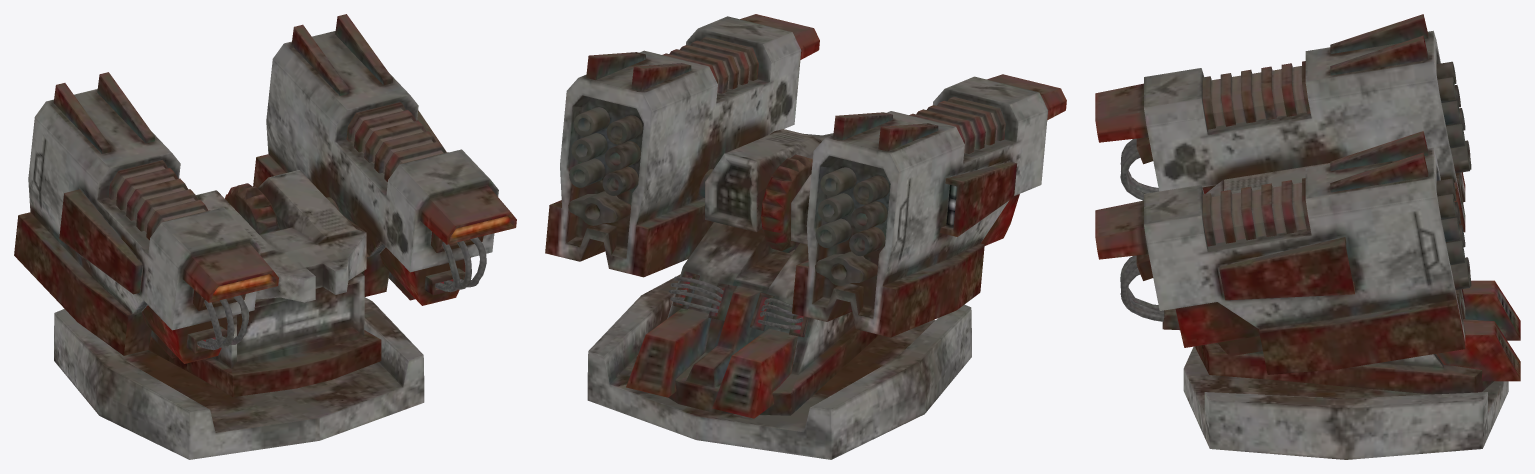
The model's file is sea-missile.glb.
3 views of the same model, side by side, from view 1: azimuth 30°, elevation 25°; view 2: azimuth 150°, elevation 25°; view 3: azimuth 270°, elevation 25° (orthographic). The views are drawn at different scales.
Parts seen in each view (by area): view 1: head, base; view 2: head, base; view 3: head, base.
Boxes of the visible parts, left/top/right/bottom form: head: left=14, top=14, right=516, bottom=363; base: left=54, top=170, right=424, bottom=459; head: left=545, top=14, right=1066, bottom=337; base: left=587, top=129, right=971, bottom=459; head: left=1095, top=14, right=1471, bottom=374; base: left=1183, top=163, right=1520, bottom=459.
Size of the model in its own units: 0.9984 by 0.8233 by 1.04.
Materials: 1 (1 with a texture image).
